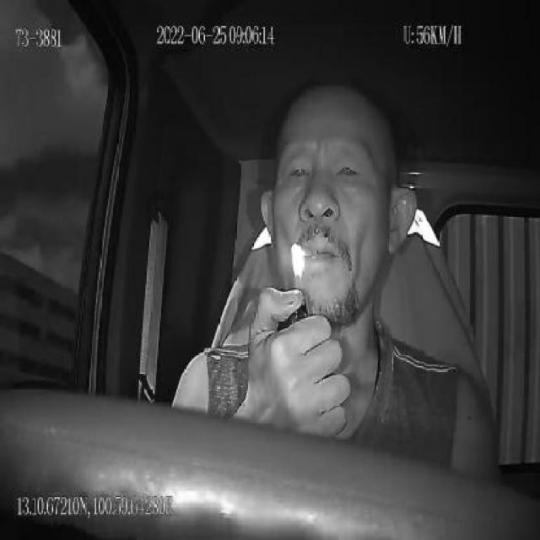smoking: (290, 245, 320, 261)
